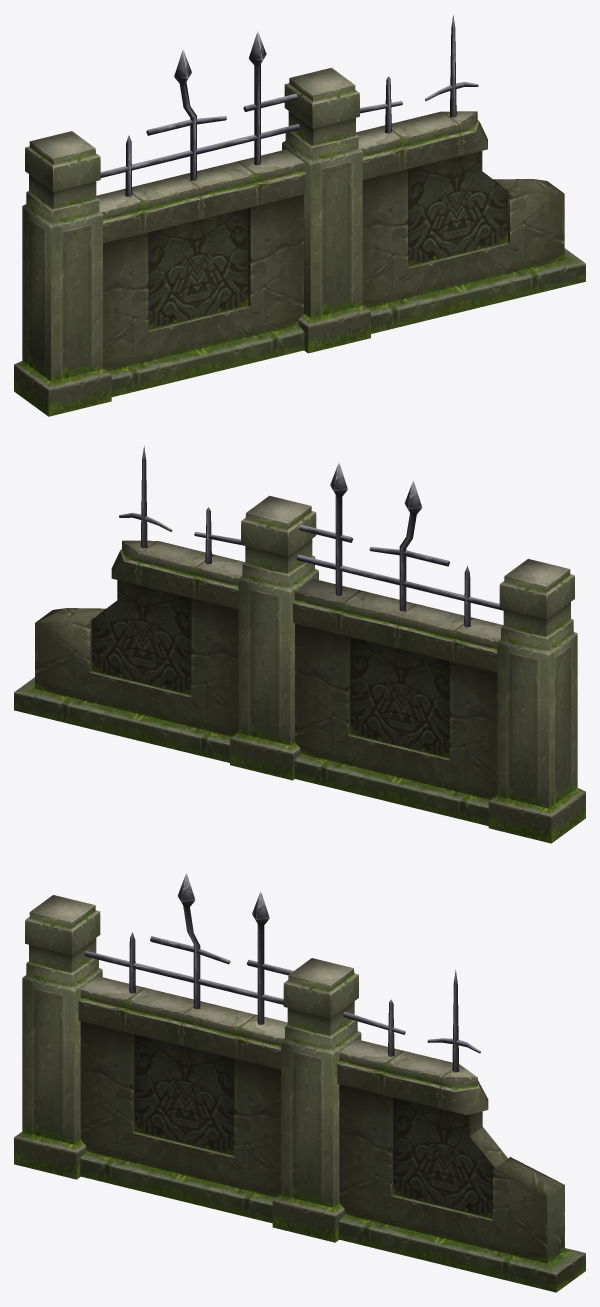
Rendered from qiang03_01.FBX.
3 renders of one model, top to bottom at view 1: azimuth 30°, elevation 25°; view 2: azimuth 150°, elevation 25°; view 3: azimuth 330°, elevation 25°, orthographic.
Parts seen in each view (by area): view 1: qiang03_01; view 2: qiang03_01; view 3: qiang03_01.
Part boxes in pixels (x1,y1,x2,y2): qiang03_01: [14, 15, 585, 416]; qiang03_01: [14, 445, 585, 843]; qiang03_01: [14, 872, 585, 1292].
Size of the model in its own units: 982 by 549 by 109.
Materials: 1 (1 with a texture image).
